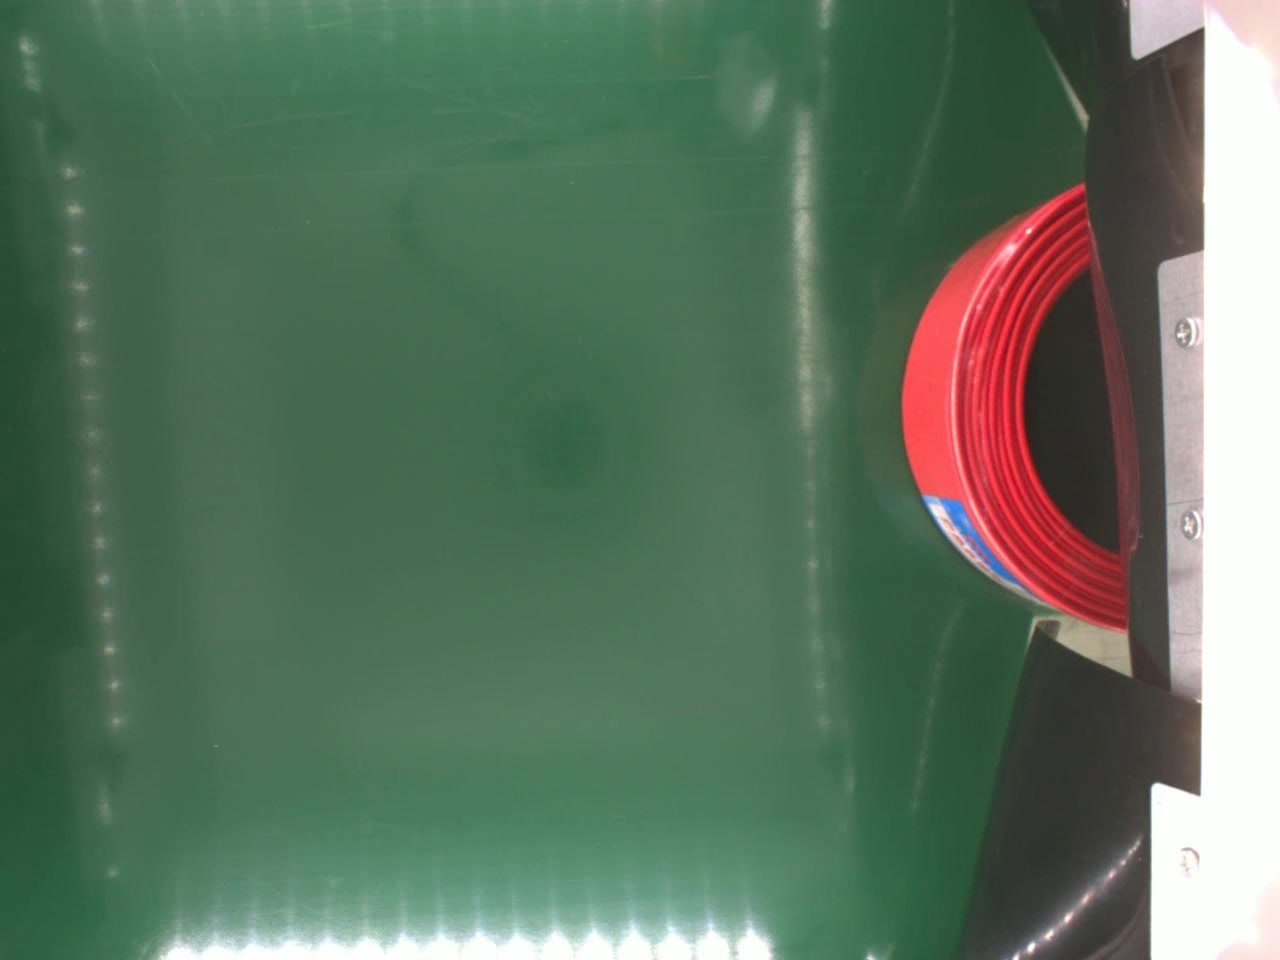red: (899, 178, 1126, 644)
